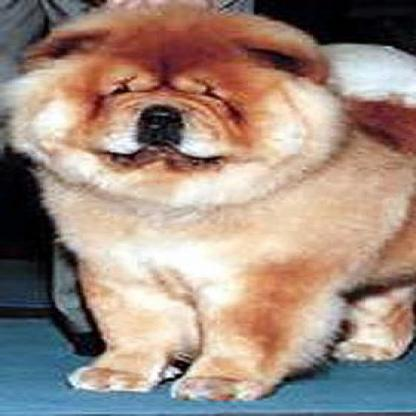chow: (3, 6, 412, 401)
